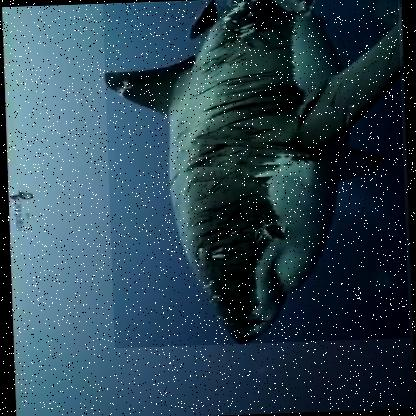white-shark: (102, 0, 411, 350)
